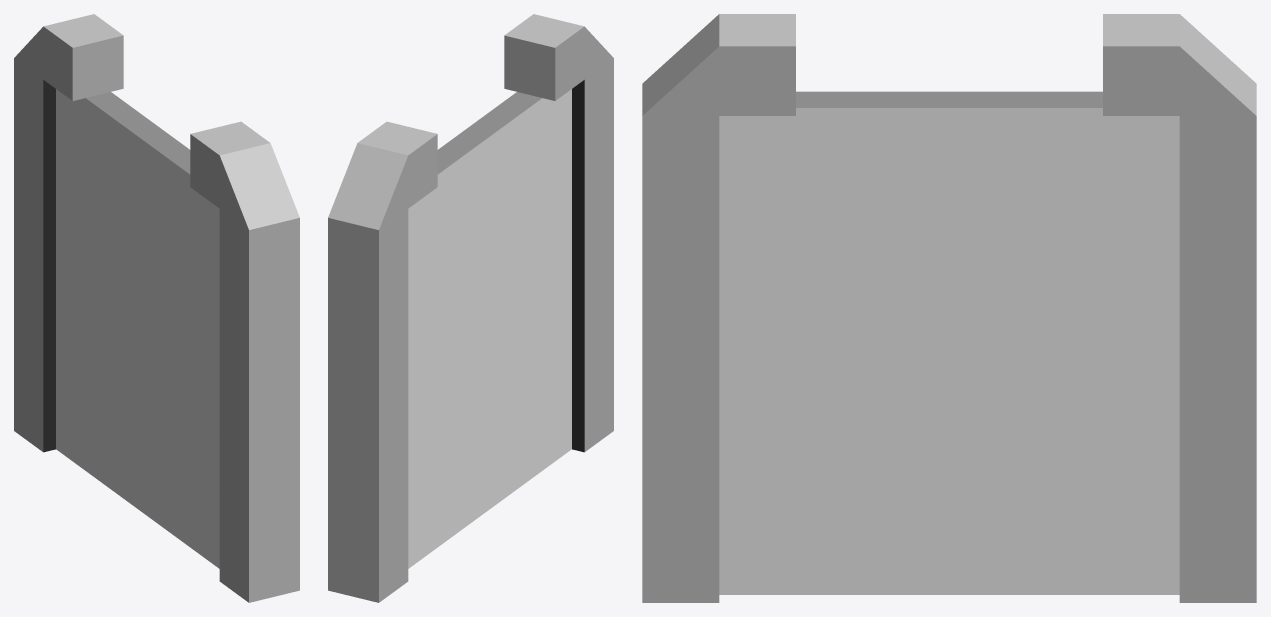
The model's file is Mirror.glb.
The picture shows the model from 3 angles, left to right: view 1: azimuth 30°, elevation 25°; view 2: azimuth 150°, elevation 25°; view 3: azimuth 270°, elevation 25°; orthographic projection. The views are drawn at different scales.
Parts seen in each view (by area): view 1: Mirror_col; view 2: Mirror_col; view 3: Mirror_col.
Boxes of the visible parts, x1,y1,x2,y2 form: Mirror_col: (14, 14, 299, 602); Mirror_col: (328, 14, 613, 602); Mirror_col: (642, 14, 1256, 602).
Bounding box in the file's own units: 0.25 × 2 × 2.
Materials: 1 (1 with a texture image).
